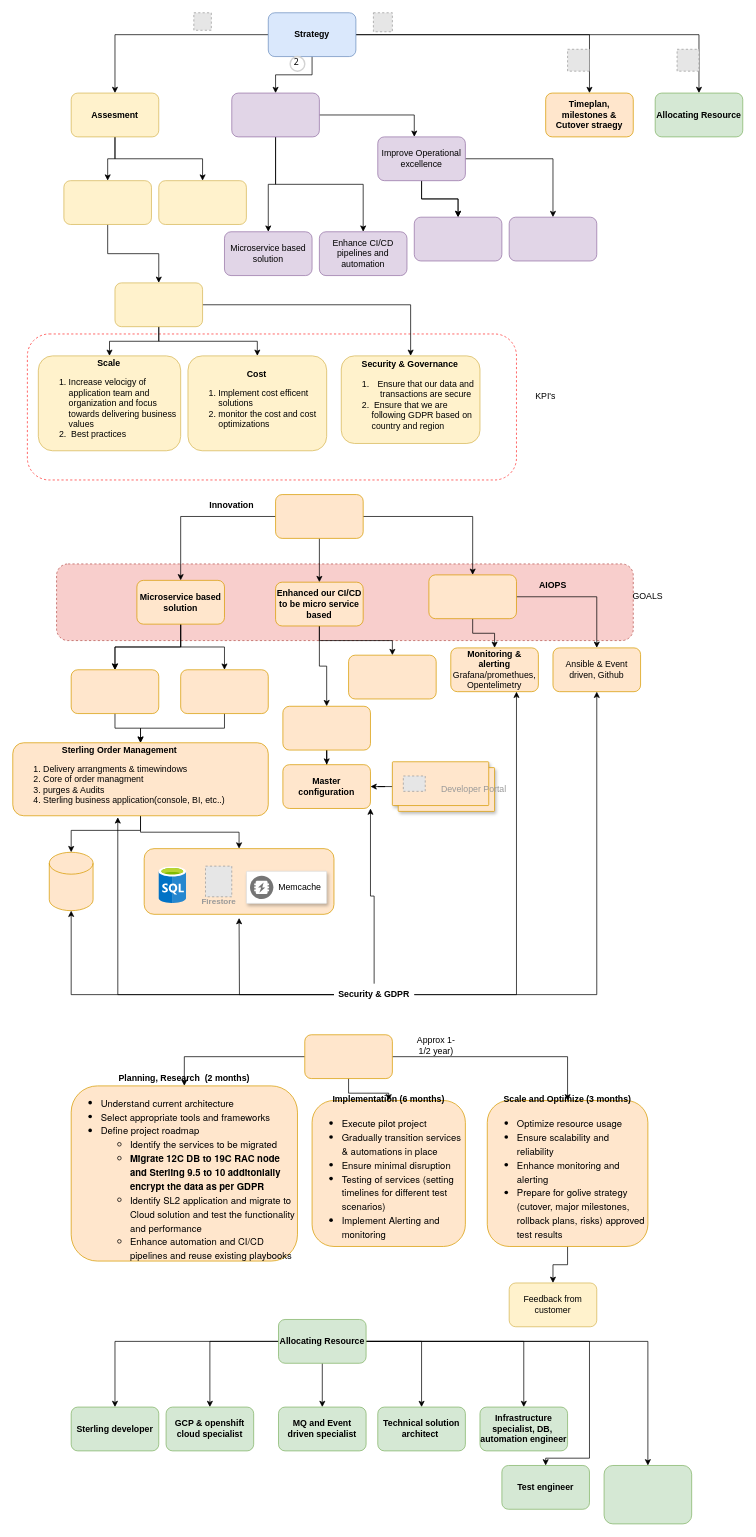
Image size: 756x1537. Some labels were removed from this diagram. Grey dashed boxes stand in for pictures. The shapes that lost their labels are listed below. From the top down, each one's centre as x and y in pixels, then its label:
point 275,114: Technical Direction
point 107,202: what Tools and technilogies that we were using and ways of working?
point 202,202: Stakeholder engagment to understand pain points ?
point 458,238: Monitoring & Alerting
point 552,238: Implementing AIOPS Solution
point 158,304: Business Case & identify business and technical benifts
point 319,516: Technical Direction / Roadmap
point 472,596: Operational Excellence
point 114,691: Identify the services
point 224,691: Cloud services Docker containers Kubernetes Cloud functions
point 392,676: Covered about 16 test cases (order creation, cancelation , return etc..)
point 326,728: Standards for github reposity and artifactory
point 71,881: Oracle RAC node
point 348,1056: Timeplan & phased approach
point 647,1494: Additonal resource based on requirement, like VMware, network, linux team
